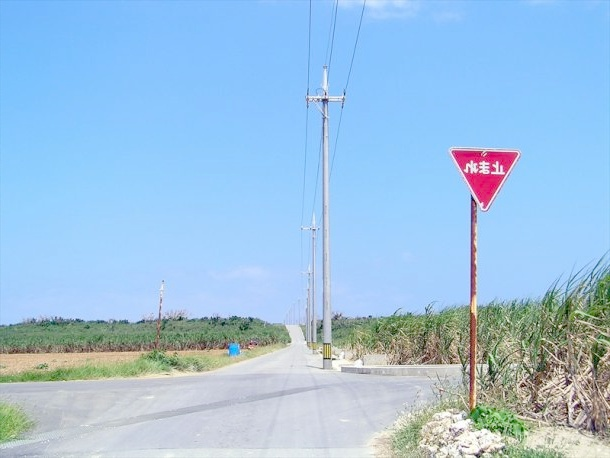Regulatory_sign_triangle: (444, 136, 522, 217)
